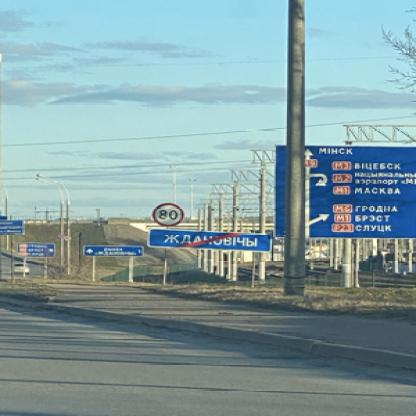speedlimit: (148, 200, 183, 225)
